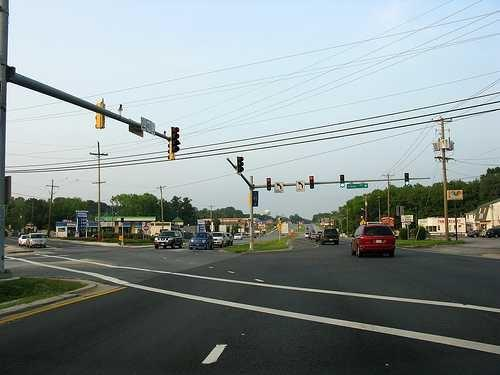green: (405, 172, 411, 188), (340, 173, 345, 189)
